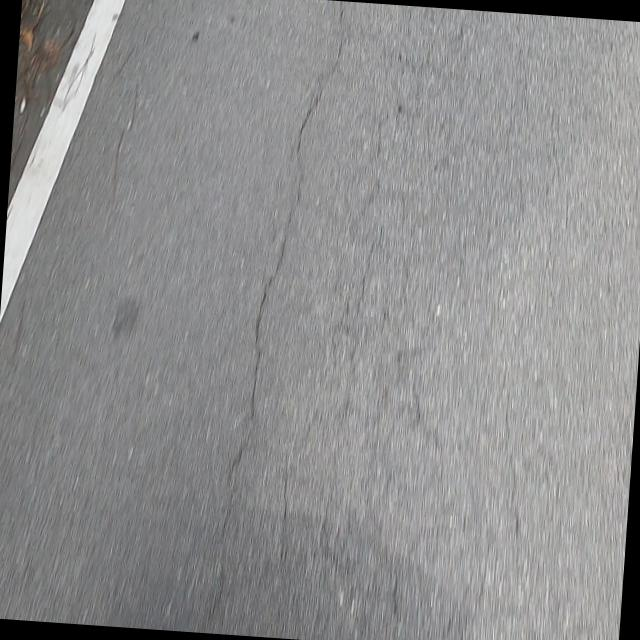Retak-Memanjang: (211, 1, 345, 619)
